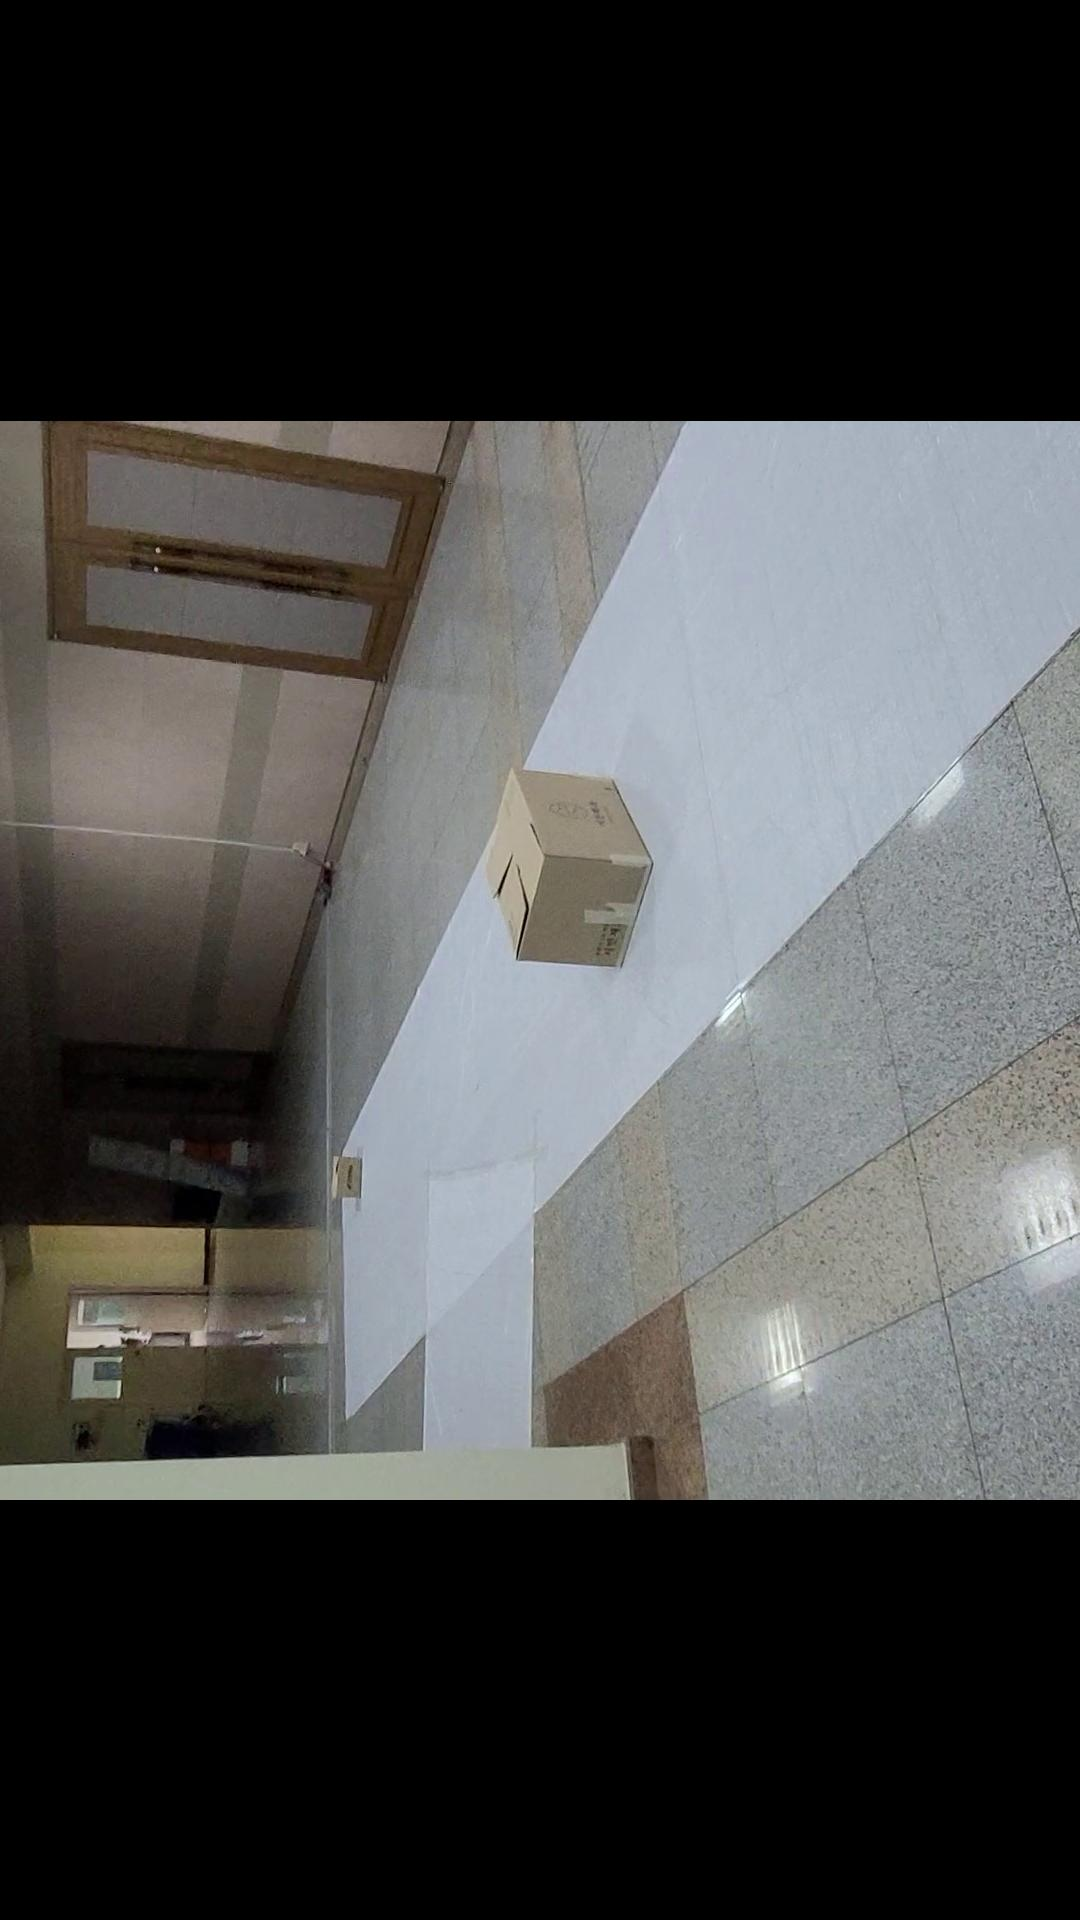Box: (463, 728, 670, 1000), (309, 1131, 393, 1218)
